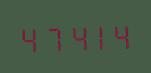four: (110, 18, 132, 51), (18, 22, 40, 54), (64, 20, 86, 52)
one: (87, 19, 109, 51)
seven: (41, 21, 63, 53)
